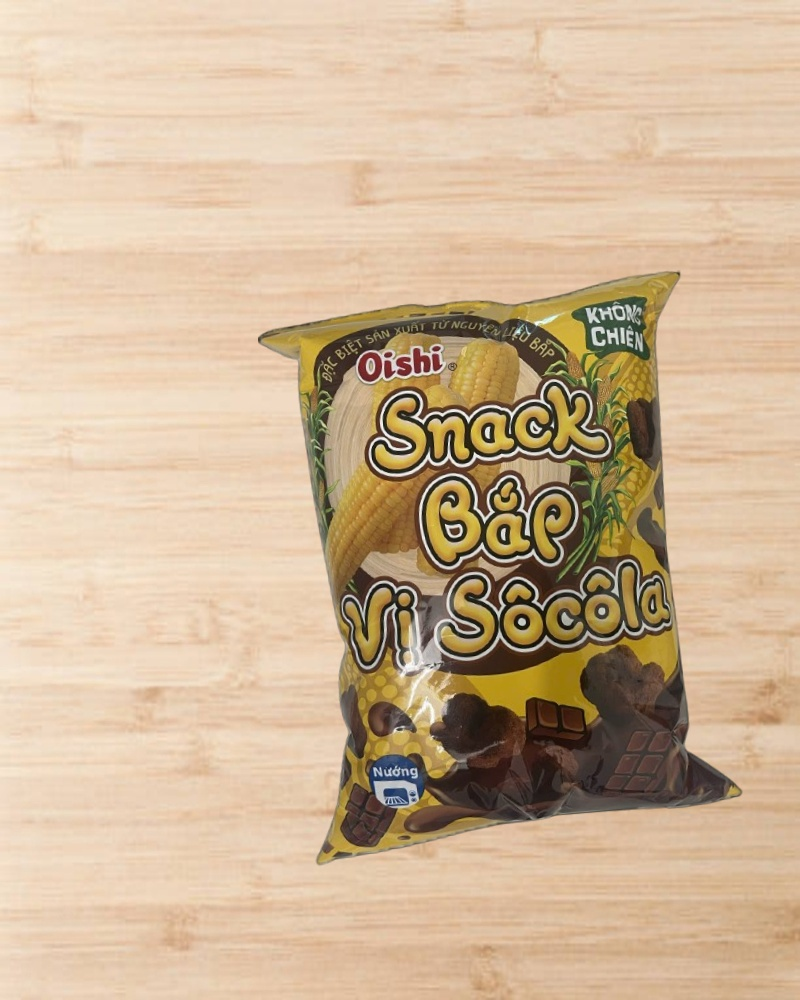Snack socola: (259, 273, 745, 854)
